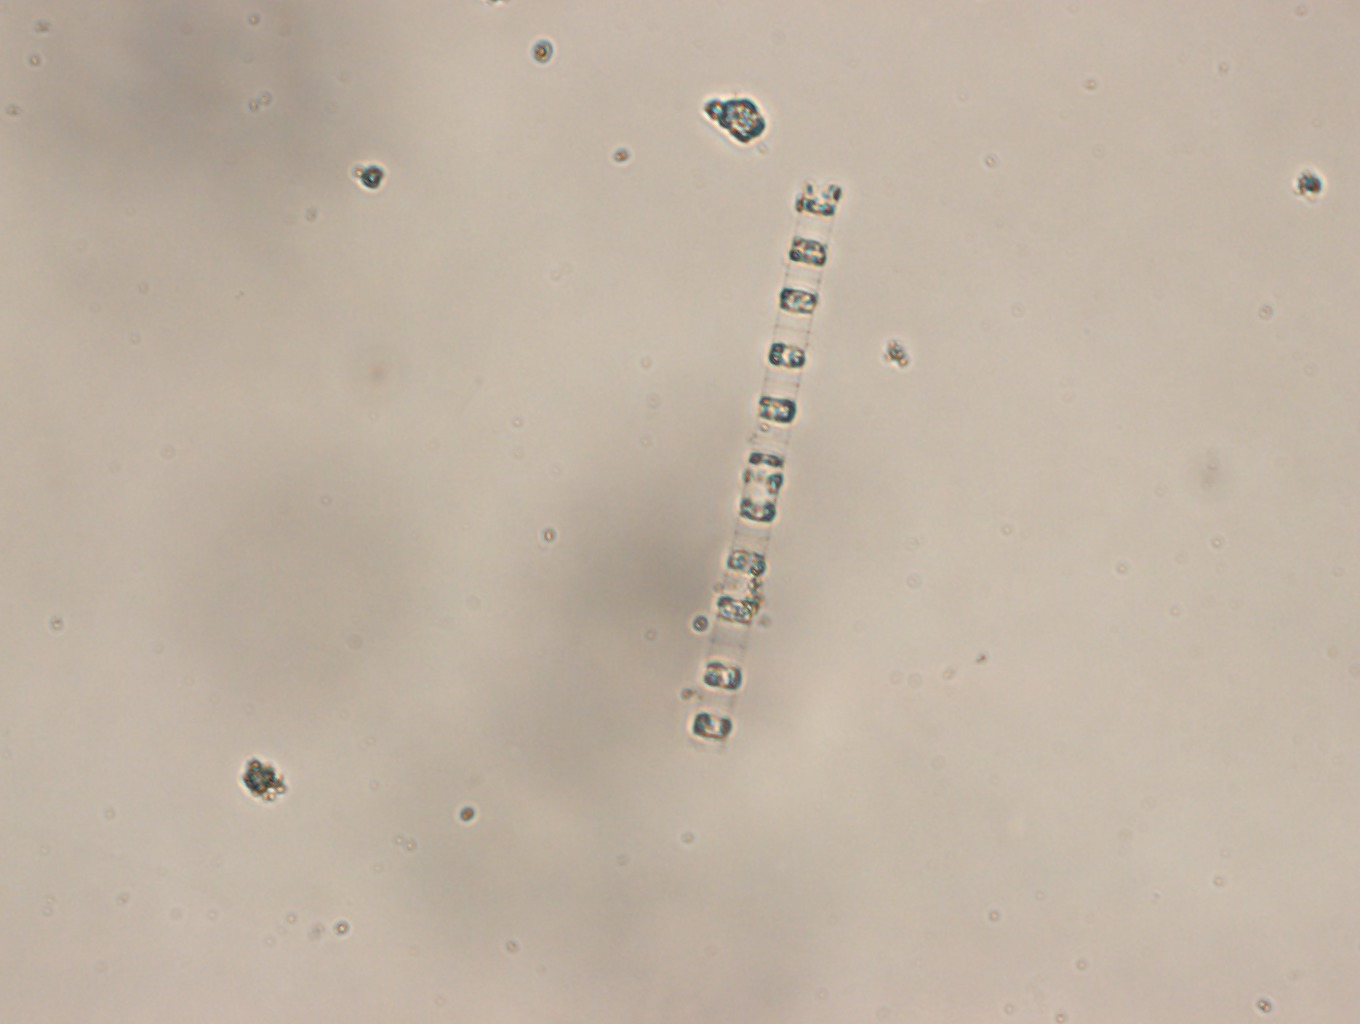skeletonema: (690, 175, 841, 753)
